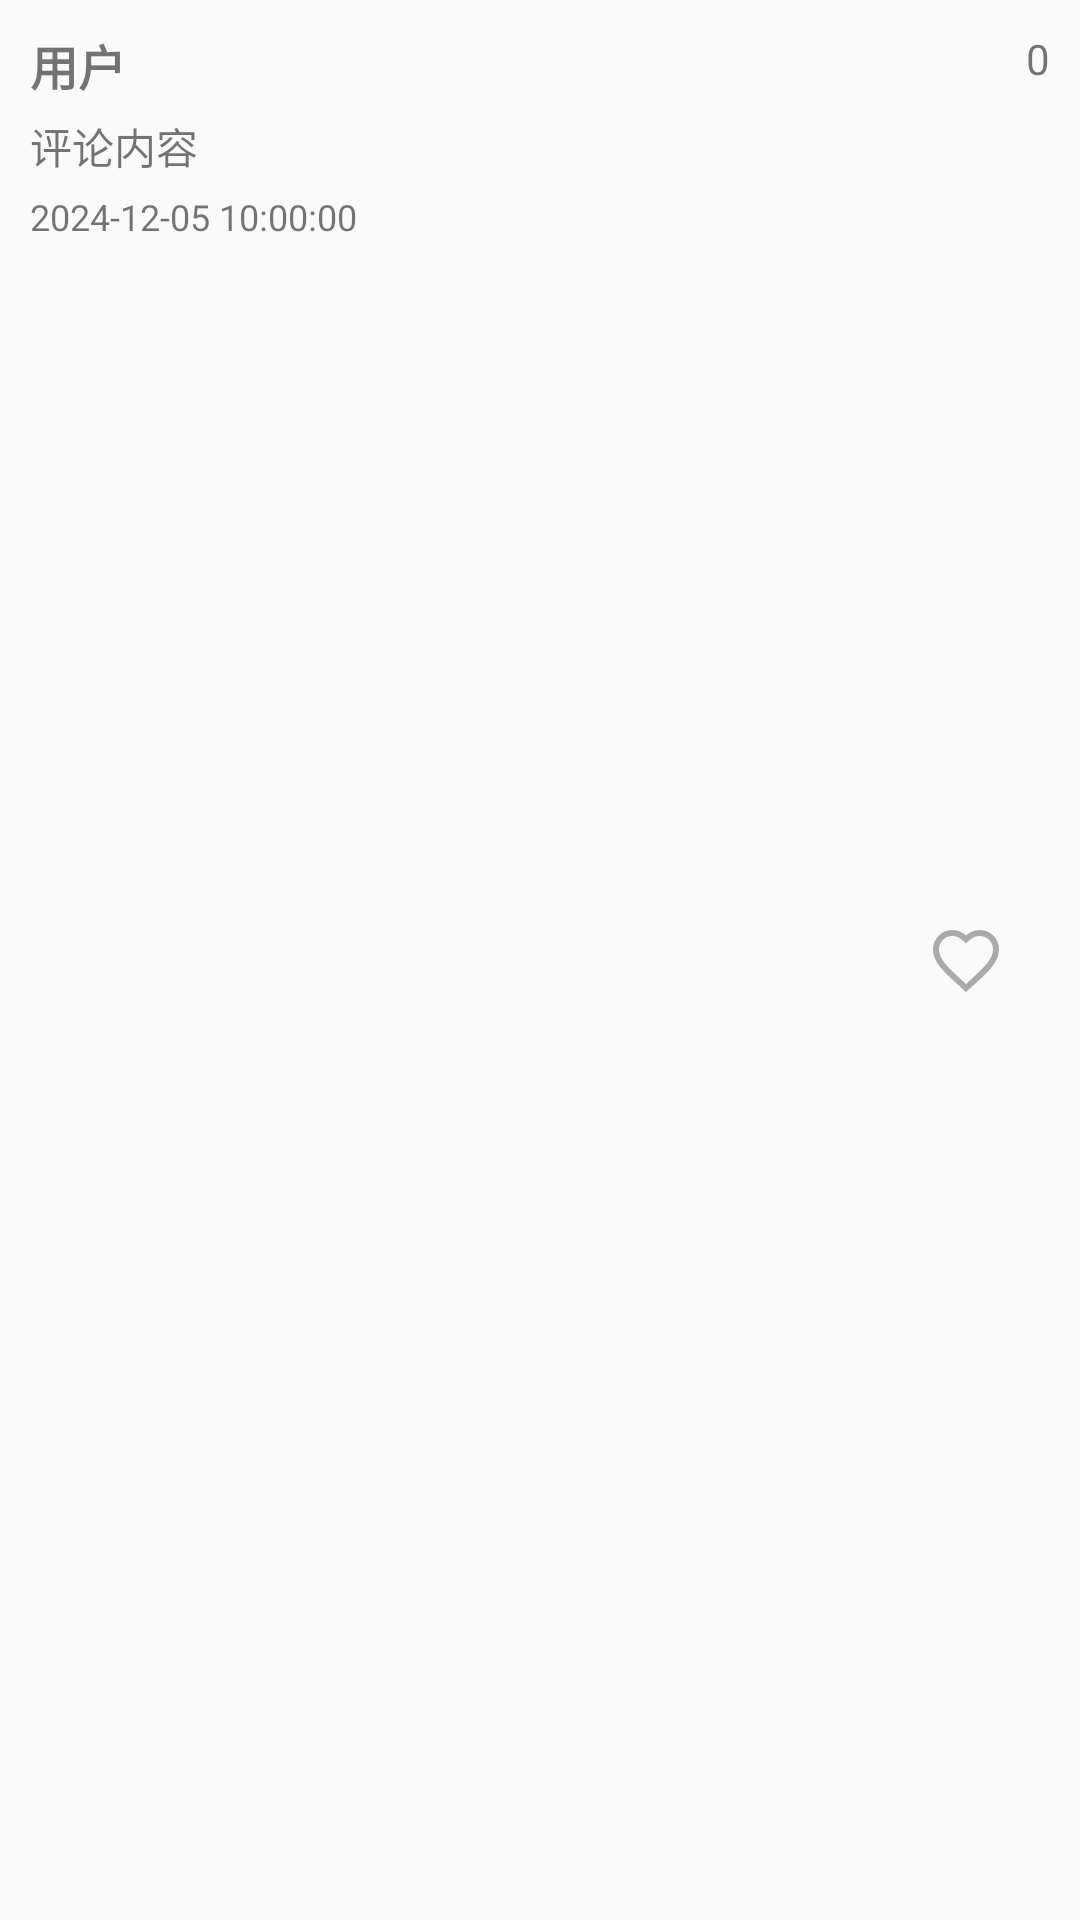

Icons on this 1080px x 1920px Android screen, each with its box as (x1, y1, x2, y2):
heart empty: (933, 930, 999, 992)
